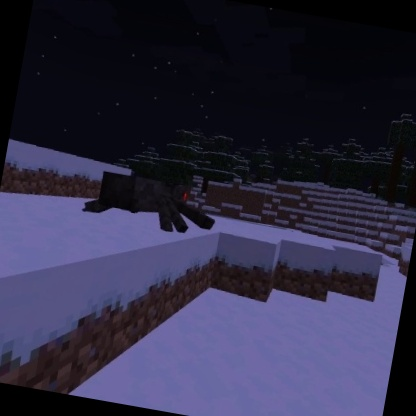spider: (79, 164, 224, 244)
